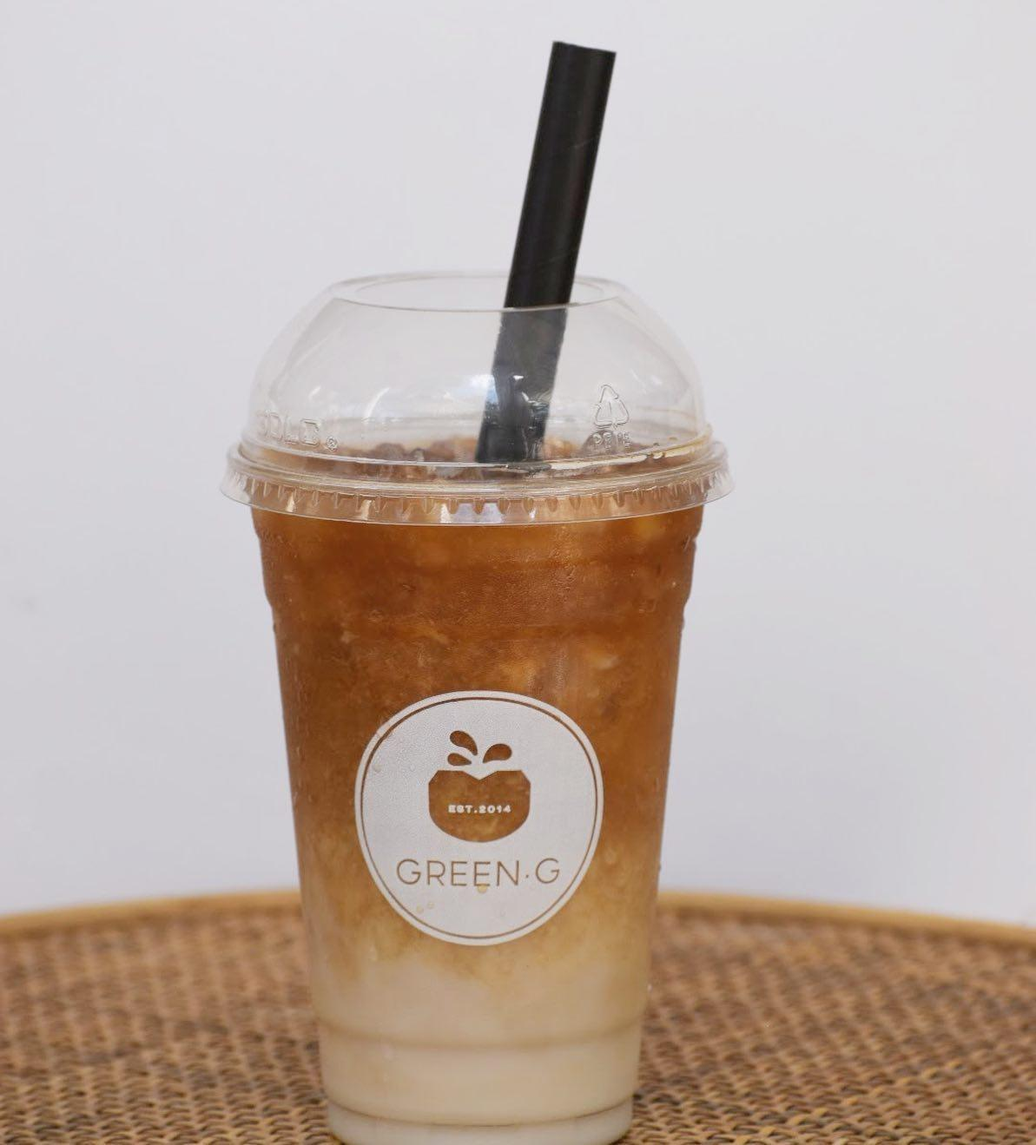cup-disposable: (212, 267, 742, 1145)
